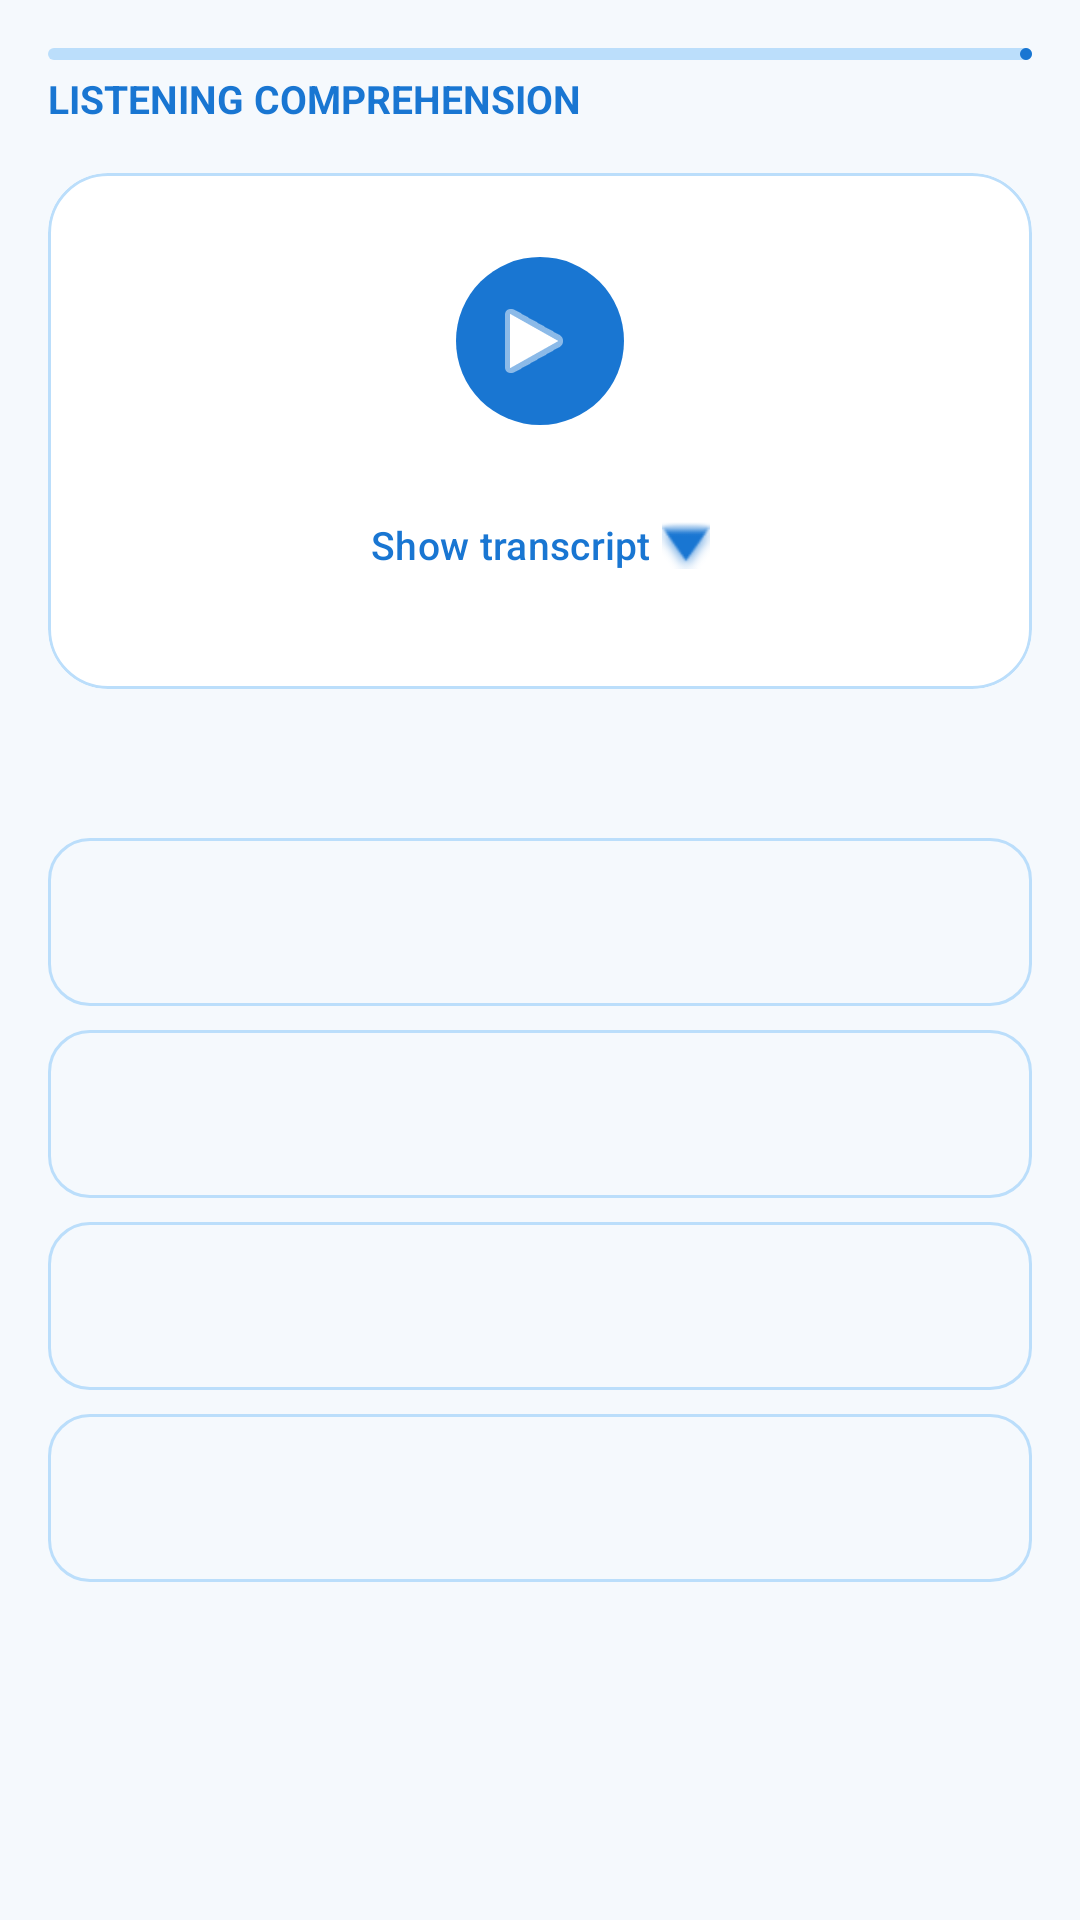

Icon click points for this 1080x1920 phone screenshot, format [x,y]:
play: [540,341]
